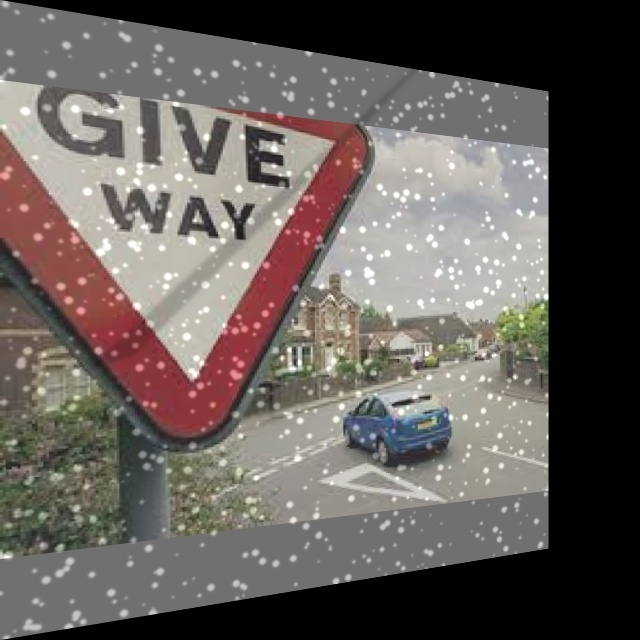Give_Way: (9, 81, 352, 401)
